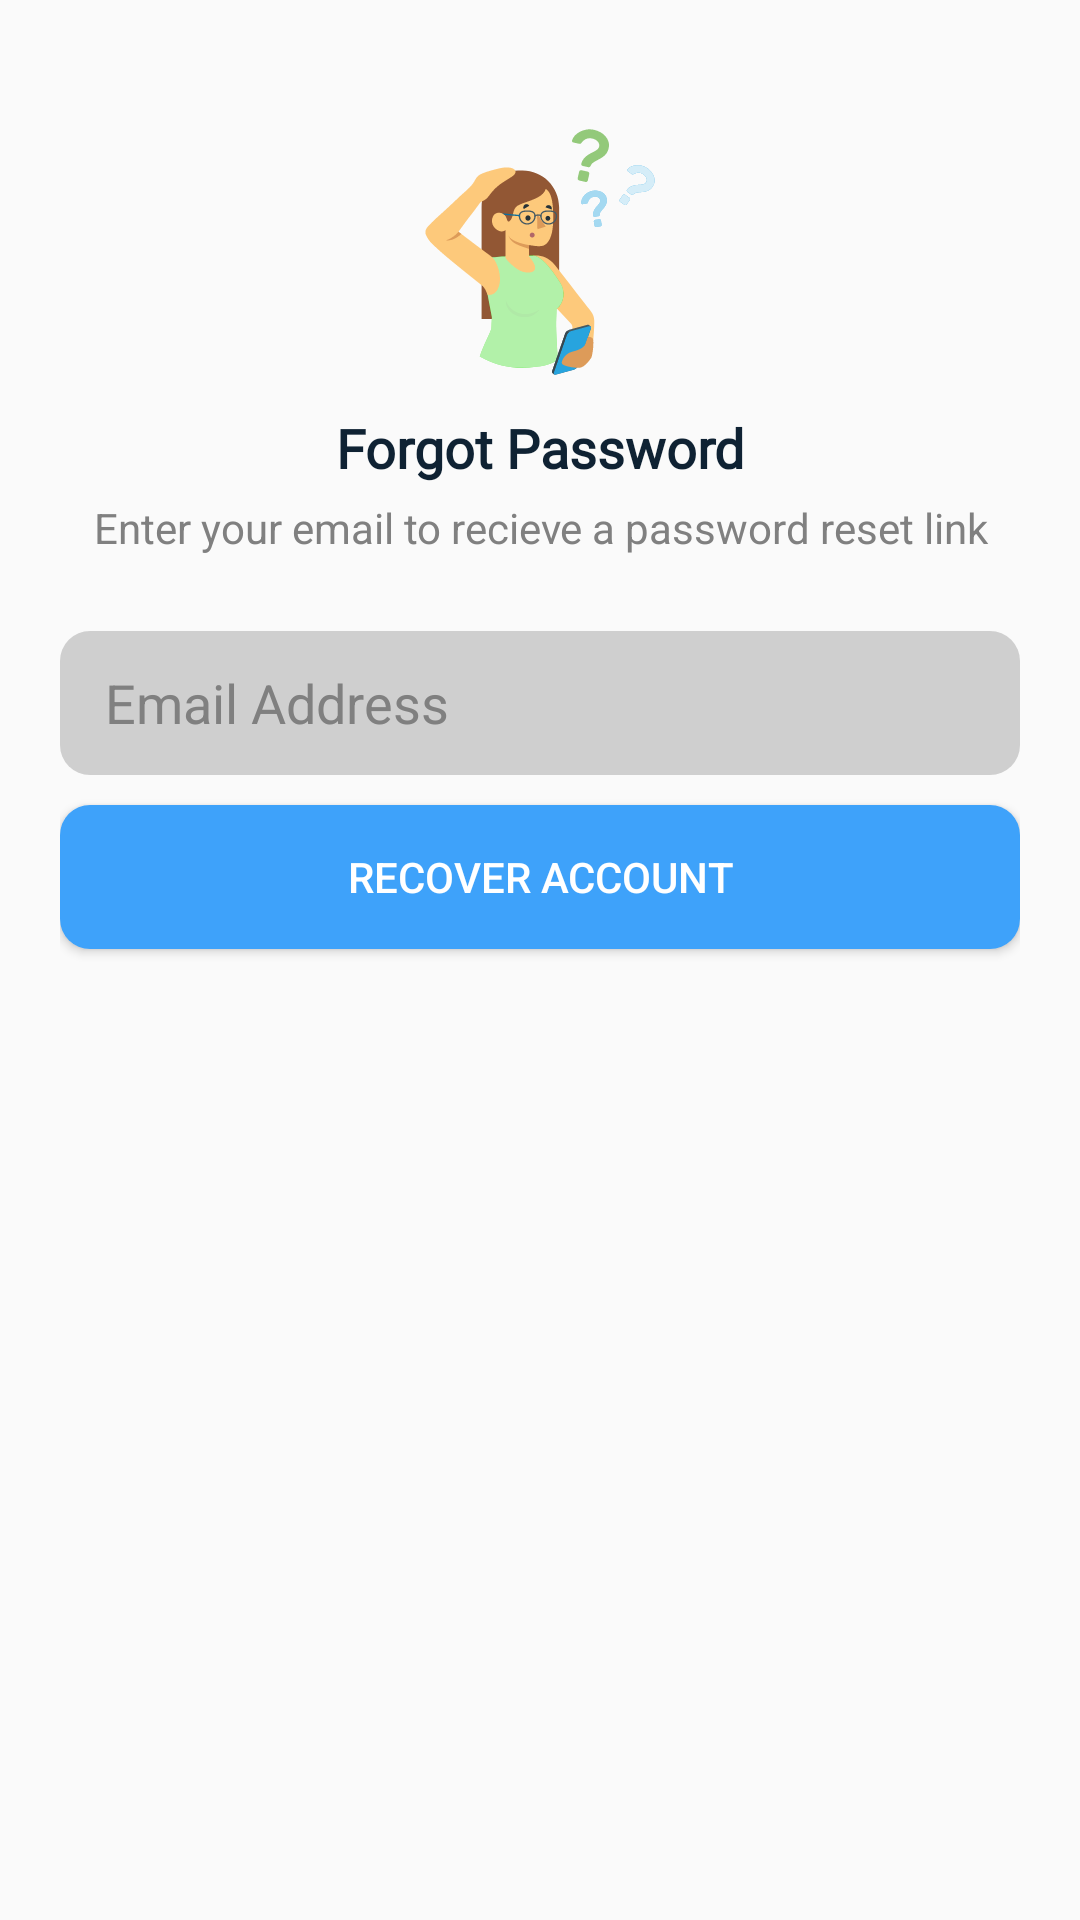

Icon bounding boxes for this 1080px×1920px phone screenshot, format (x1, y1, x2, y2):
confused girl: (425, 129, 655, 375)
